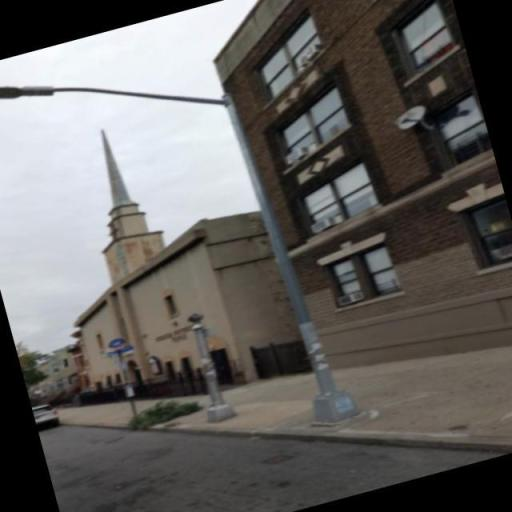off: (0, 73, 102, 128)
